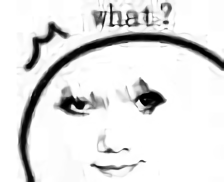dragon: (57, 83, 169, 177)
